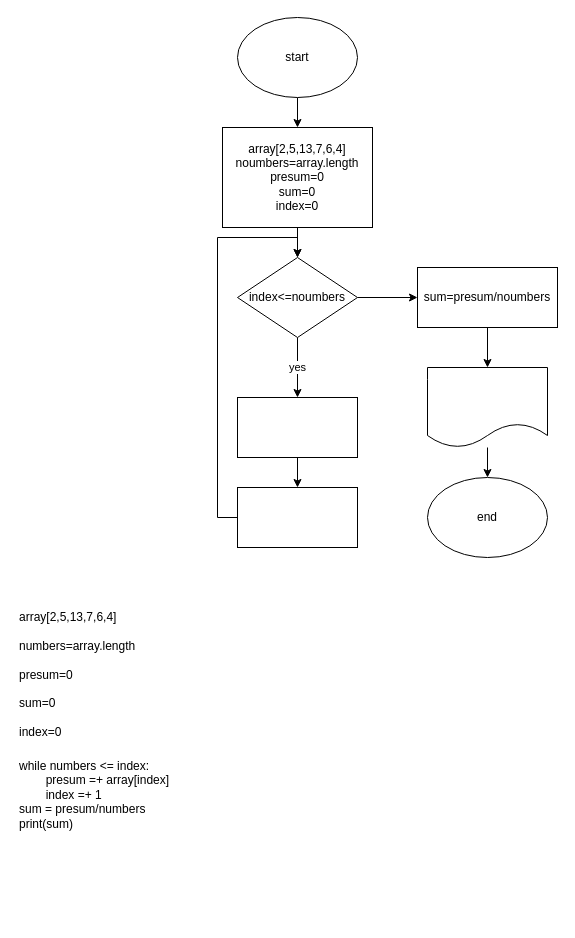
This 575x938 diagram has some shape labels left out. Each missing label, with the box of its shape:
index=+1: (236, 486, 358, 548)
presum=+array[index]: (236, 396, 358, 458)
sum: (426, 366, 548, 448)
